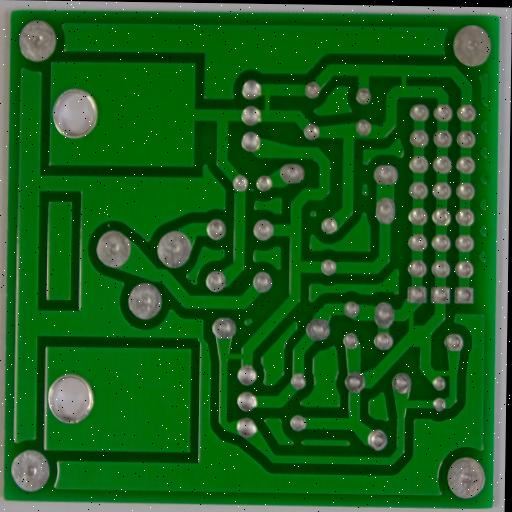short_circuit: (216, 341, 256, 370), (251, 83, 280, 123), (388, 65, 418, 103), (401, 308, 423, 346), (425, 362, 456, 388)
